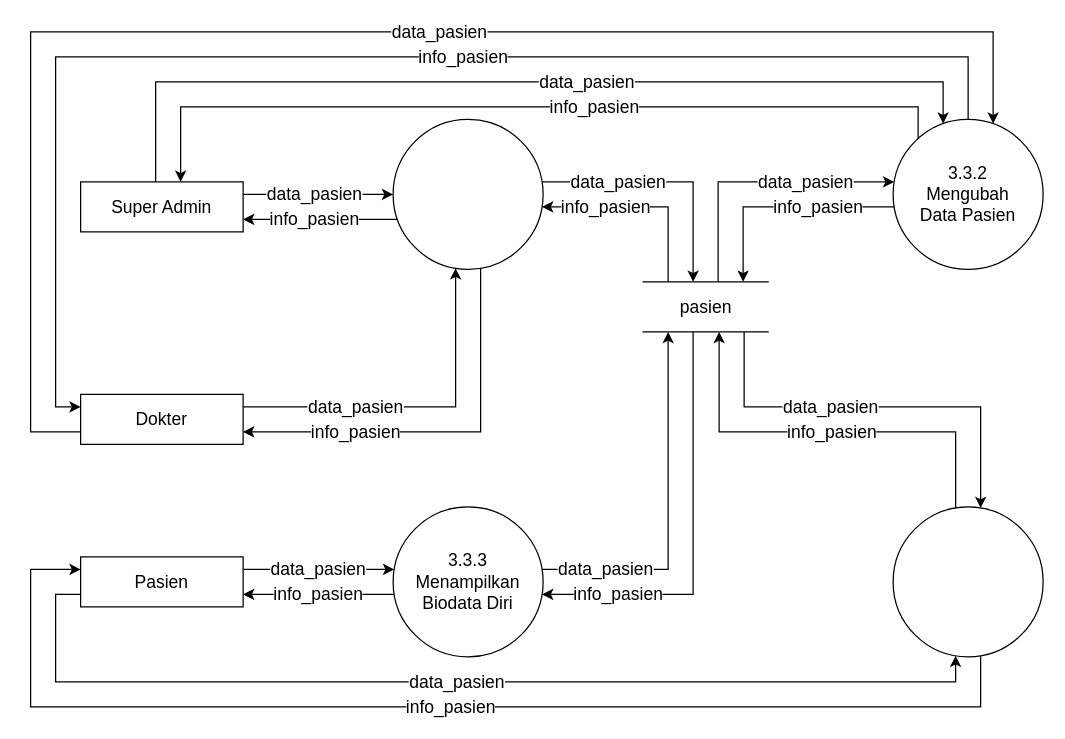
Some shapes in this 1065 by 739 pixel diagram are drawn without their labels. The box of each missing label's shape, as (x1, y1, x2, y2) in pixels:
3.3.1 Menampilkan Daftar Pasien: (392, 118, 543, 269)
3.3.3 Mengubah Biodata Diri: (892, 506, 1043, 657)
